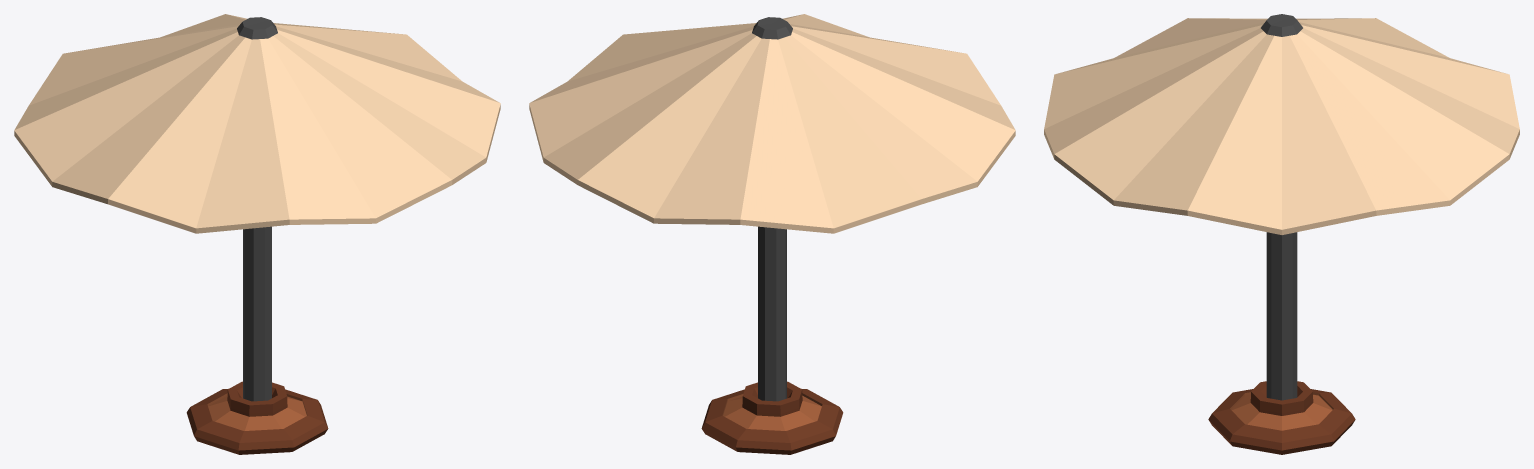
Rendered from Parasol.fbx.
3 renders of one model, left to right at view 1: azimuth 30°, elevation 25°; view 2: azimuth 150°, elevation 25°; view 3: azimuth 270°, elevation 25°, orthographic.
Visible parts, largest first — view 1: Sphere.001; view 2: Sphere.001; view 3: Sphere.001.
Part boxes in pixels (bbox=[...]): Sphere.001: bbox=[14, 14, 500, 454]; Sphere.001: bbox=[529, 14, 1015, 454]; Sphere.001: bbox=[1044, 14, 1519, 454].
Bounding box in the file's own units: 5236 × 4972 × 5236.
